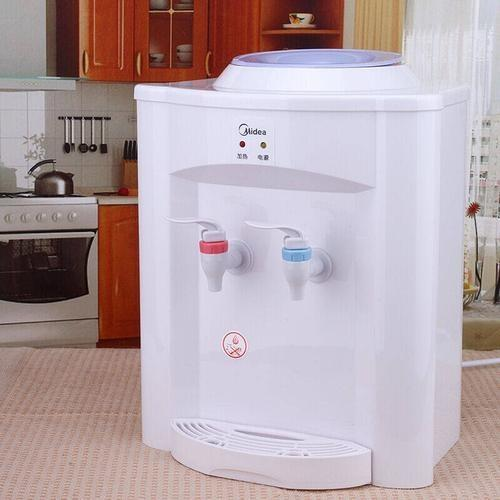Dispenser: (133, 46, 471, 488)
